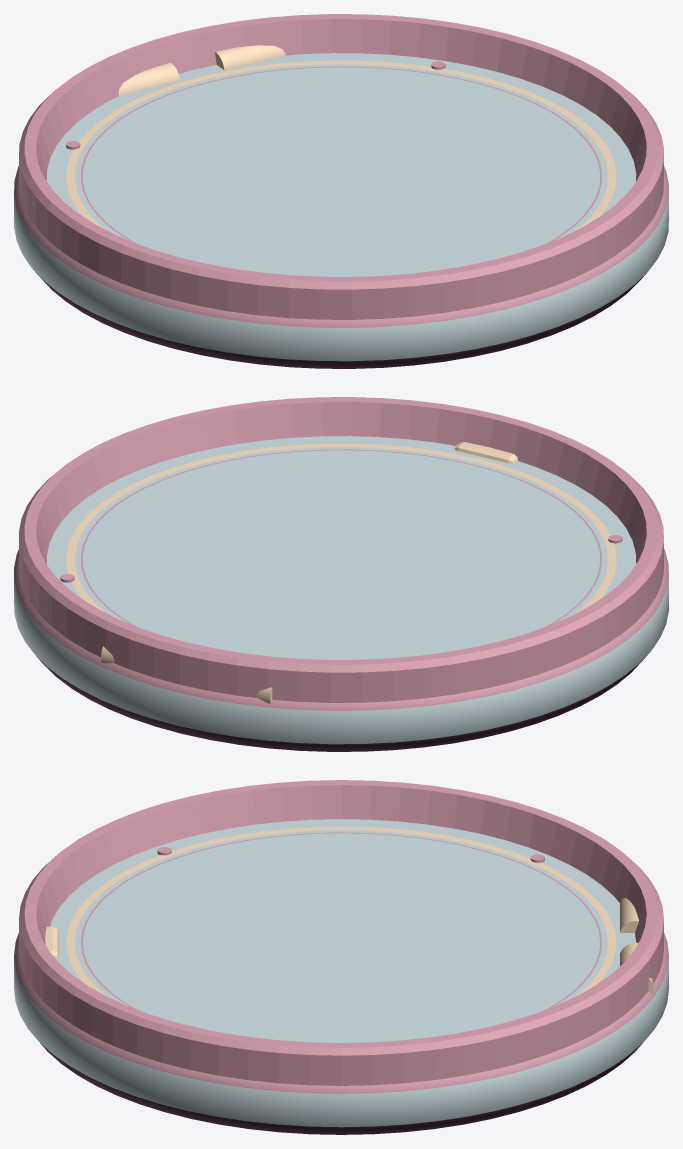
Rendered from stone-boudoir.glb.
3 views of the same model, one above another, from view 1: azimuth 30°, elevation 25°; view 2: azimuth 150°, elevation 25°; view 3: azimuth 270°, elevation 25° (orthographic).
Parts seen in each view (by area): view 1: platform_mesh; view 2: platform_mesh; view 3: platform_mesh.
Boxes of the visible parts, x1,y1,x2,y2 form: platform_mesh: (14, 14, 668, 368); platform_mesh: (14, 397, 668, 751); platform_mesh: (14, 780, 668, 1134).
Size of the model in its own units: 5 by 0.8 by 5.
